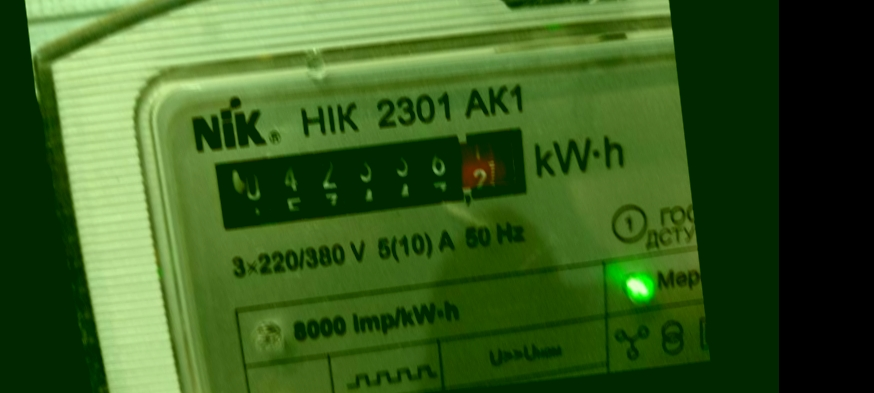0: (237, 167, 260, 202)
1: (465, 136, 480, 163)
2: (312, 154, 337, 190), (466, 166, 485, 189)
3: (349, 149, 370, 183), (388, 145, 408, 179)
4: (276, 159, 297, 193)
6: (423, 143, 446, 179)
screen: (197, 112, 540, 241)
